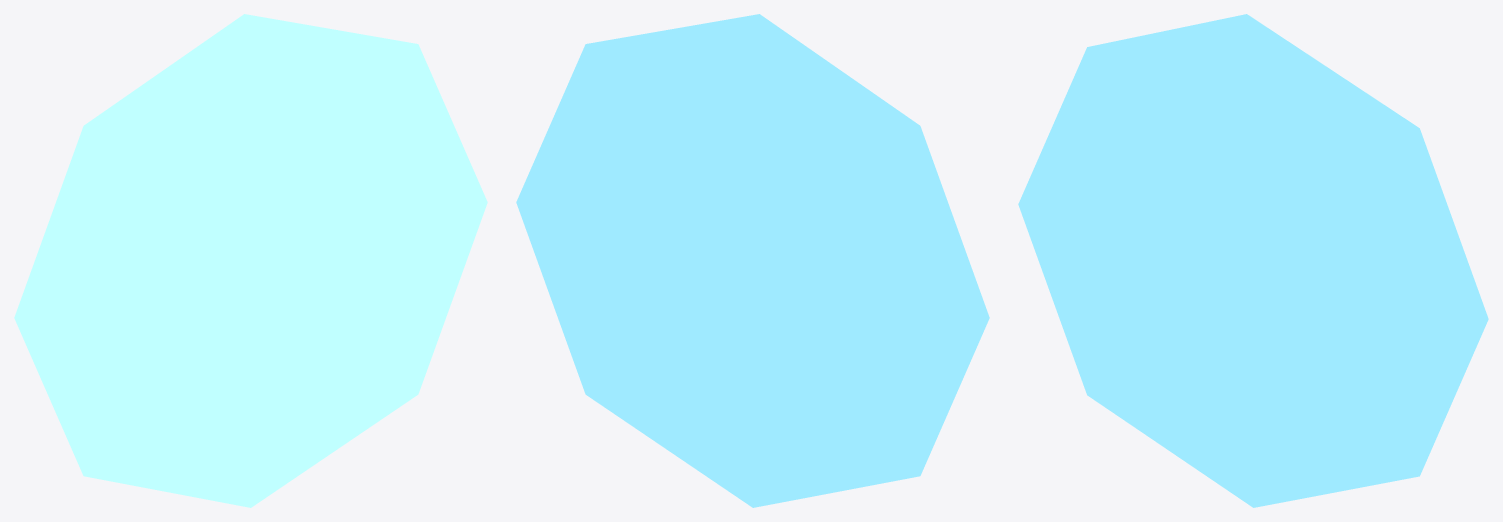
The model's file is floatingWaterRockGlow.glb.
3 renders of one model, left to right at view 1: azimuth 30°, elevation 25°; view 2: azimuth 150°, elevation 25°; view 3: azimuth 330°, elevation 25°, orthographic.
Parts seen in each view (by area): view 1: floatingWaterRockGlow; view 2: floatingWaterRockGlow; view 3: floatingWaterRockGlow.
Part boxes in pixels (box(x1,y1,x2,y2)): floatingWaterRockGlow: box(14, 14, 487, 507); floatingWaterRockGlow: box(516, 14, 989, 507); floatingWaterRockGlow: box(1018, 14, 1488, 507).
Size of the model in its own units: 1.34 by 1.34 by 2.68e-07.
